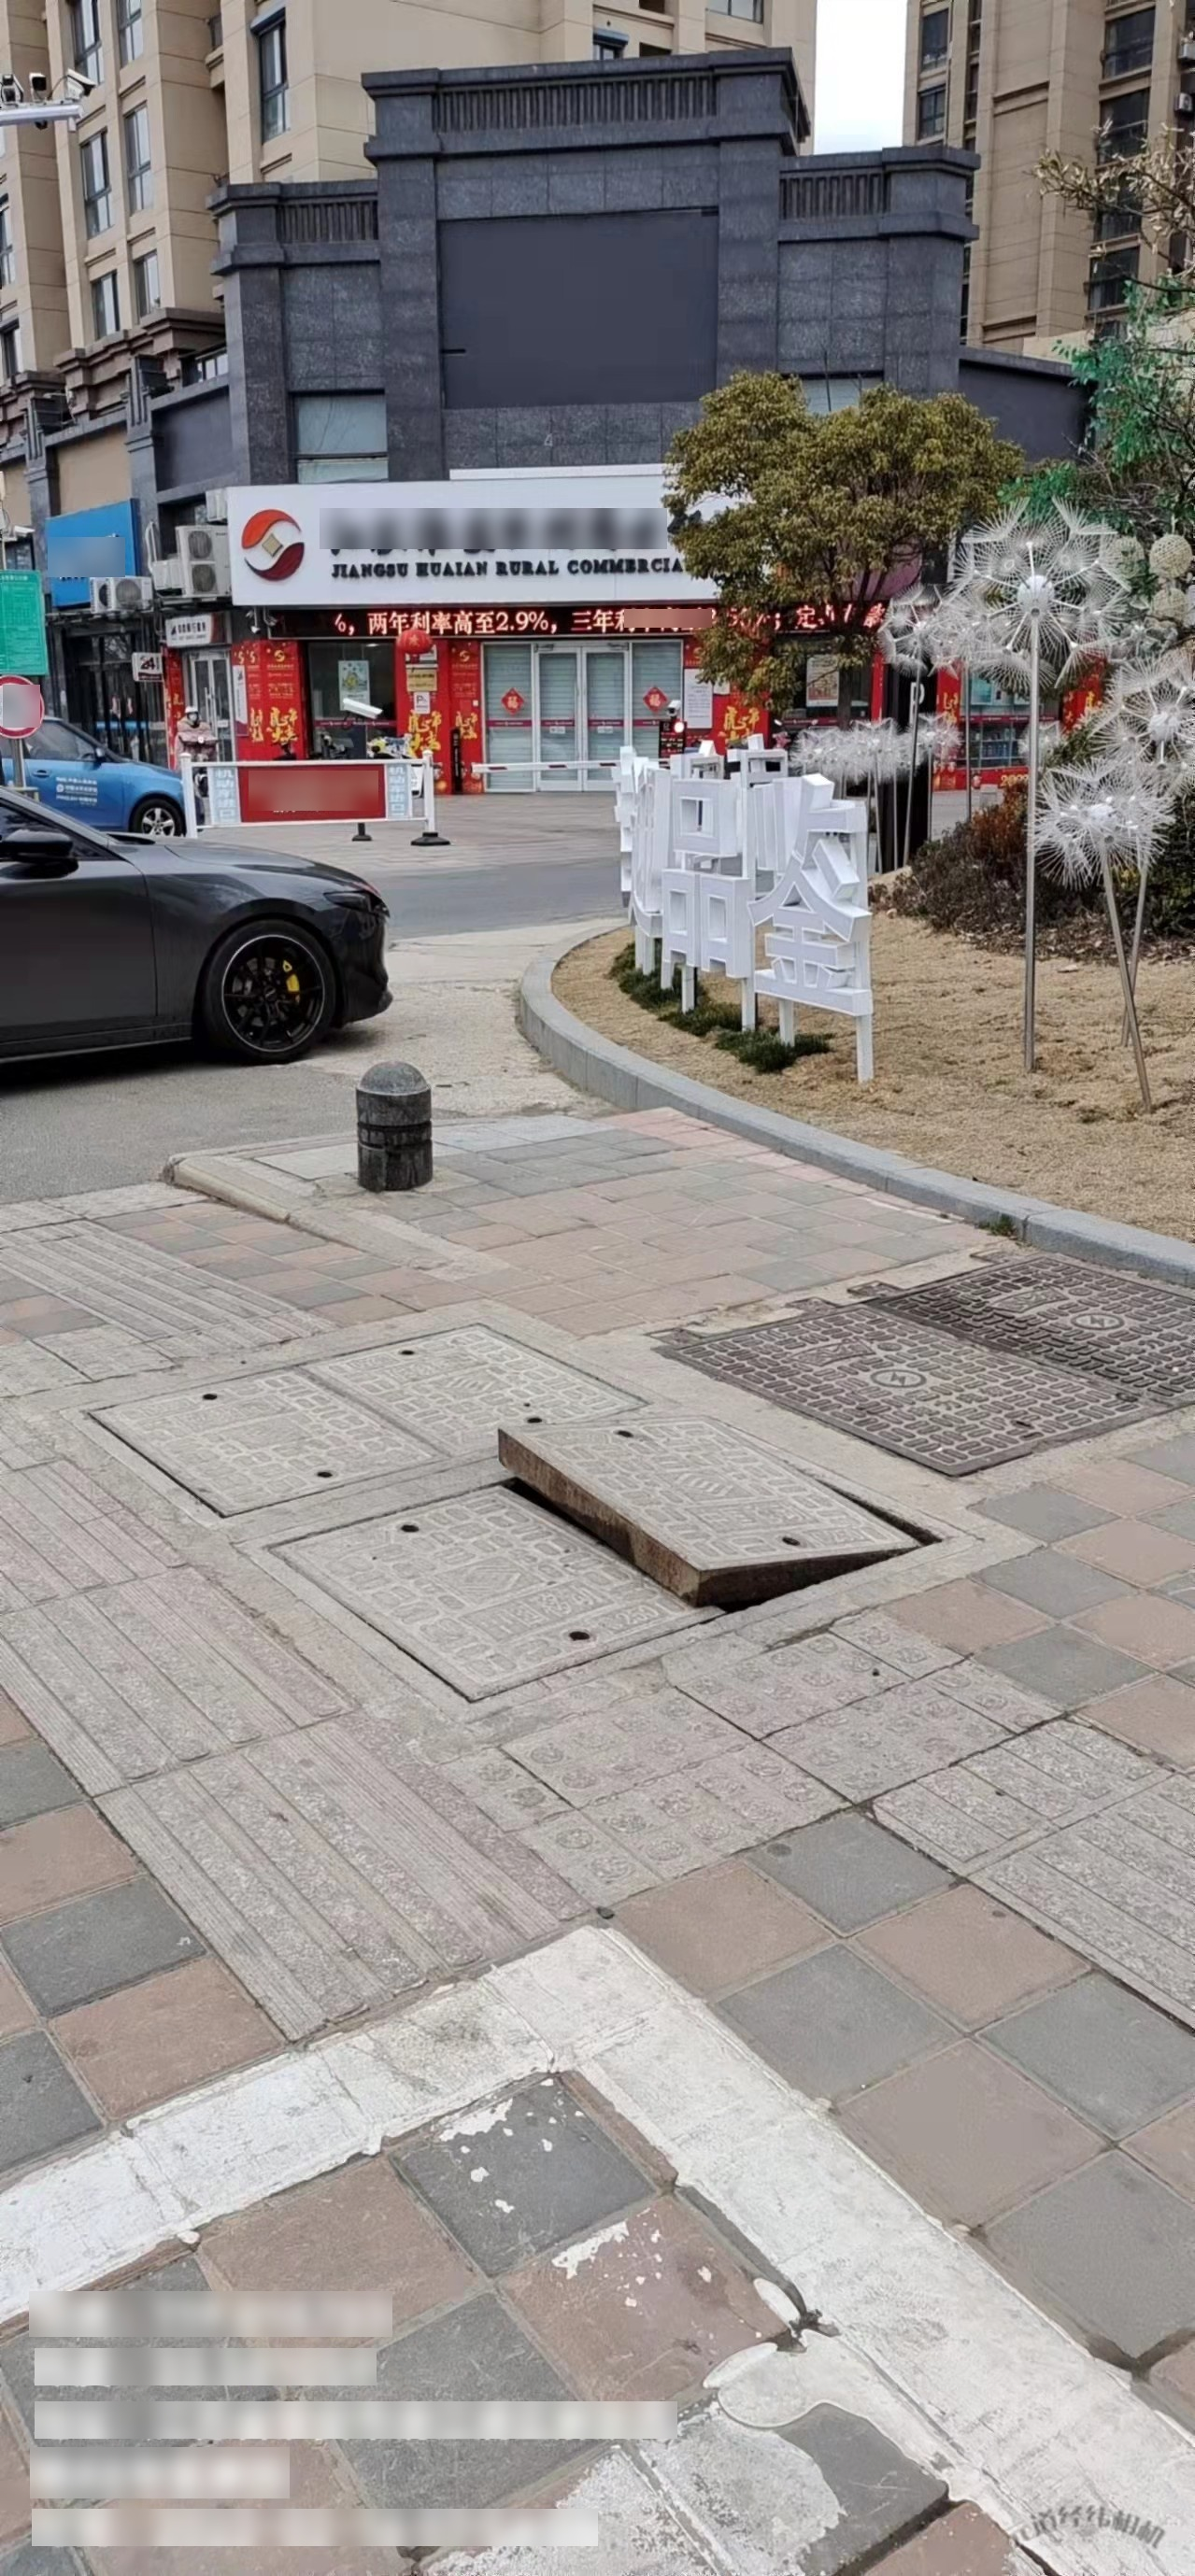good: (644, 1244, 1195, 1503), (74, 1314, 644, 1536)
uncovered: (237, 1400, 978, 1712)
